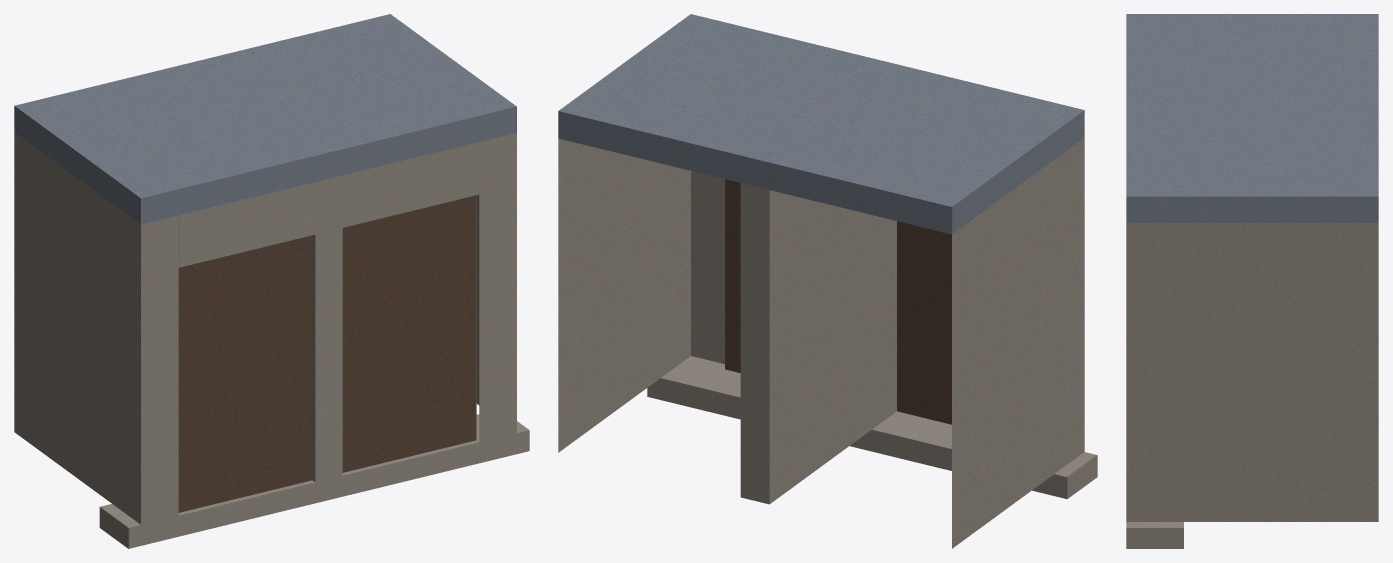
The model's file is door.obj.
3 views of the same model, side by side, from view 1: azimuth 30°, elevation 25°; view 2: azimuth 150°, elevation 25°; view 3: azimuth 270°, elevation 25° (orthographic). The views are drawn at different scales.
Size of the model in its own units: 3.2 by 2.65 by 1.75.
